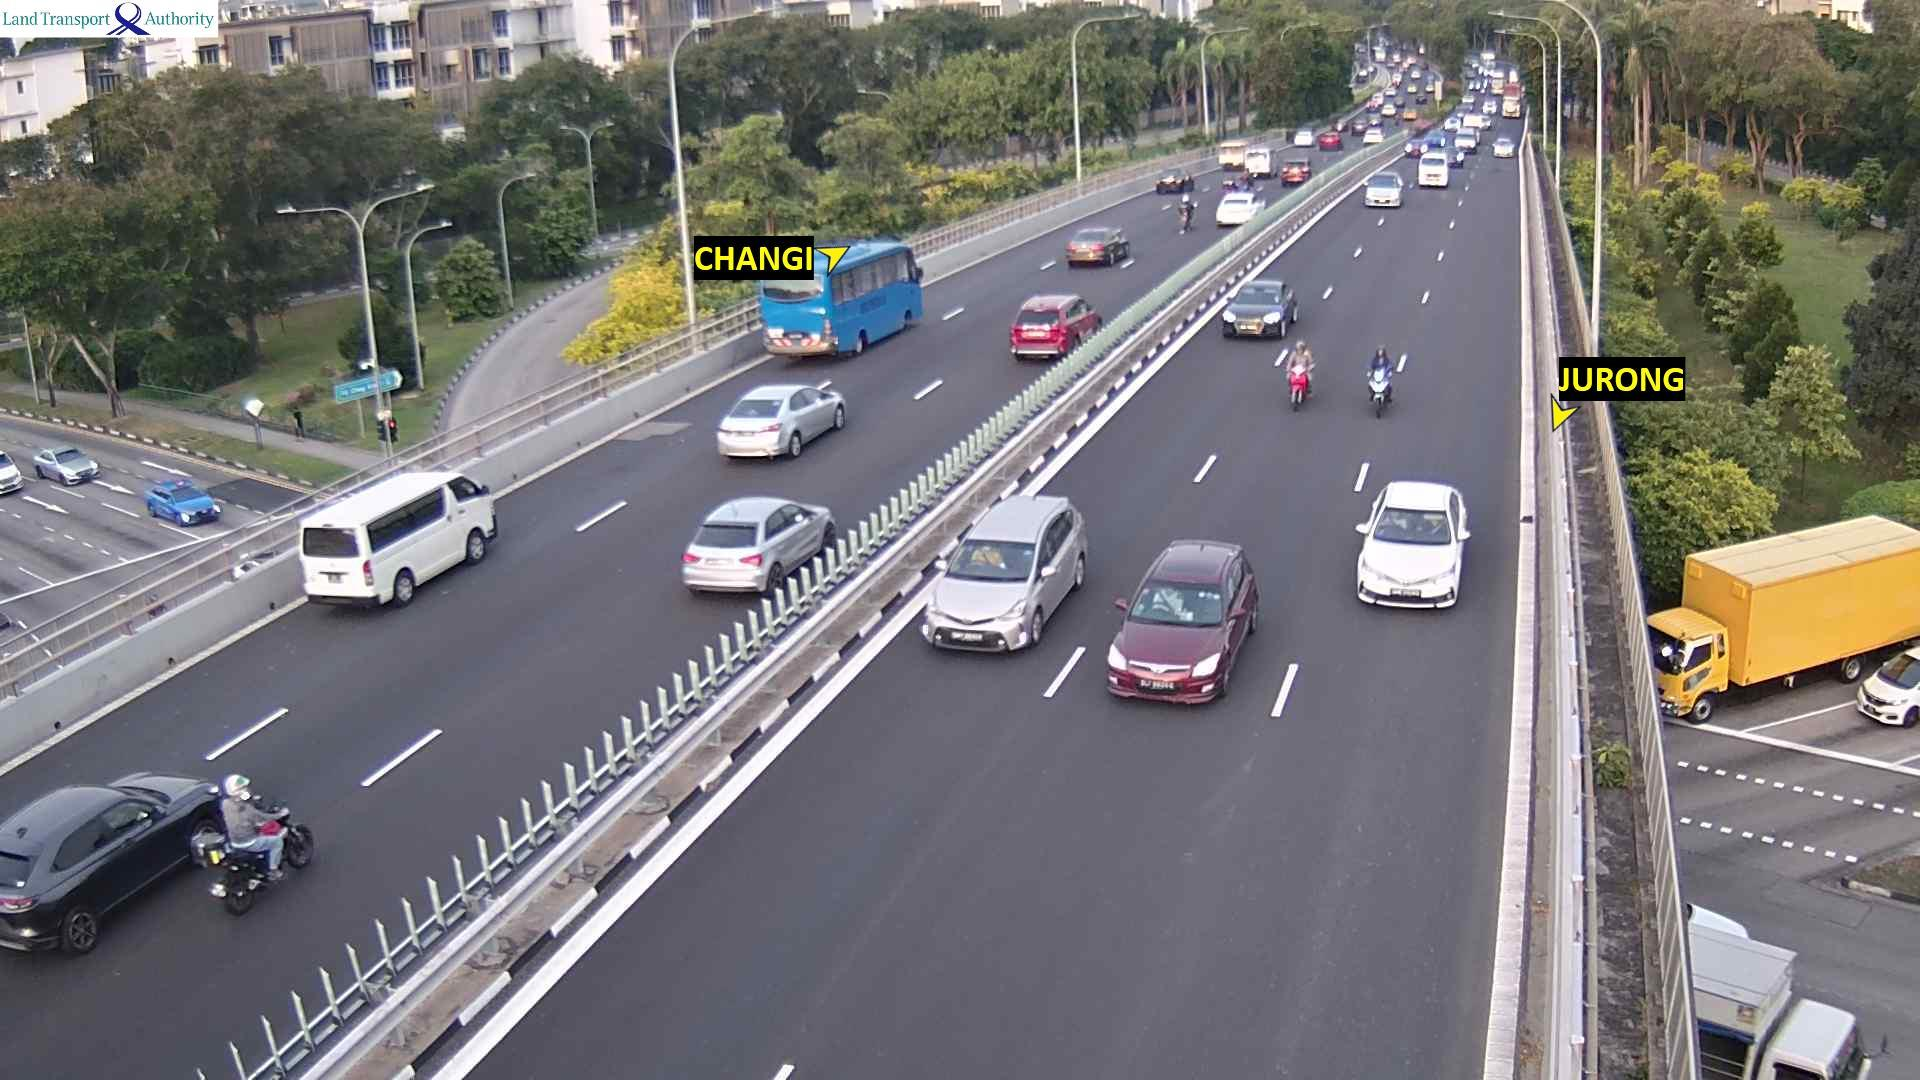bus: (754, 235, 924, 359)
cars: (0, 770, 225, 953), (297, 469, 498, 609), (920, 493, 1087, 653), (1105, 537, 1259, 705), (680, 495, 837, 596), (1353, 477, 1472, 611), (713, 378, 847, 460), (1763, 996, 1871, 1077), (1009, 291, 1102, 360), (756, 277, 835, 357), (1854, 644, 1919, 727), (1220, 277, 1298, 339), (144, 477, 220, 525), (32, 444, 98, 485), (1064, 225, 1129, 266), (1215, 190, 1266, 225), (1362, 171, 1404, 207), (1216, 138, 1257, 170), (1416, 150, 1449, 189), (0, 450, 22, 495), (1155, 167, 1193, 193), (1279, 156, 1311, 185), (1244, 146, 1273, 178), (1453, 127, 1478, 156), (1220, 173, 1253, 194), (1440, 146, 1466, 171), (1461, 112, 1490, 132), (1404, 137, 1429, 160), (1316, 131, 1342, 150), (1491, 135, 1514, 157), (1361, 124, 1385, 145), (1424, 129, 1448, 150), (1292, 127, 1313, 146), (1349, 116, 1370, 136), (1482, 98, 1499, 117), (1489, 78, 1506, 96), (1331, 117, 1350, 133), (1444, 116, 1461, 133), (1402, 105, 1419, 123), (1366, 115, 1387, 128), (1364, 100, 1381, 116), (1379, 103, 1396, 116), (1461, 92, 1477, 105), (1455, 103, 1476, 112), (1373, 91, 1386, 105), (1414, 94, 1428, 107), (1468, 78, 1481, 91), (1393, 96, 1407, 108), (1464, 69, 1478, 80), (1382, 87, 1398, 98), (1424, 83, 1436, 94), (1410, 70, 1423, 79), (1407, 84, 1419, 94), (1390, 79, 1402, 88), (1391, 73, 1403, 82)
motorcycle: (189, 798, 314, 916), (1365, 368, 1394, 418), (1286, 361, 1313, 411), (1178, 195, 1197, 235), (1391, 109, 1403, 128)
trucks: (1644, 512, 1917, 723), (1683, 901, 1873, 1079), (1501, 82, 1523, 117)
